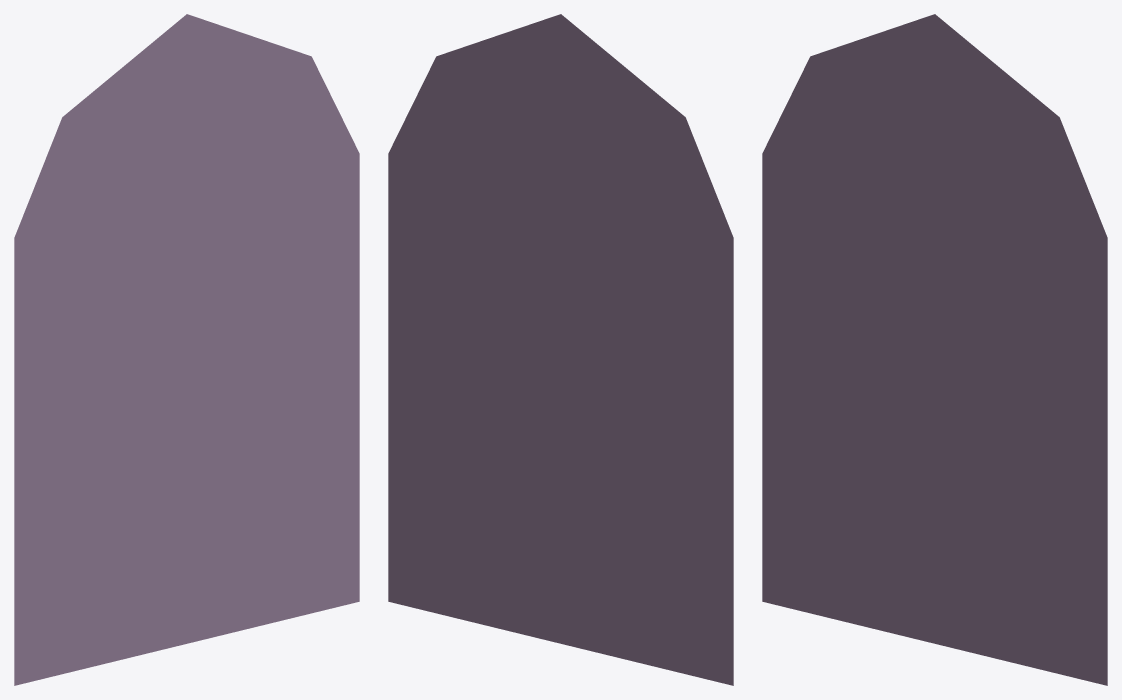
File: gate_1.fbx
The picture shows the model from 3 angles, left to right: view 1: azimuth 30°, elevation 25°; view 2: azimuth 150°, elevation 25°; view 3: azimuth 330°, elevation 25°; orthographic projection.
Parts seen in each view (by area): view 1: pCube75; view 2: pCube75; view 3: pCube75.
Boxes of the visible parts, left/top/right/bottom form: pCube75: left=14, top=14, right=359, bottom=685; pCube75: left=388, top=14, right=733, bottom=685; pCube75: left=762, top=14, right=1107, bottom=685.
Size of the model in its own units: 3.67 by 6.39 by 6.1e-06.
